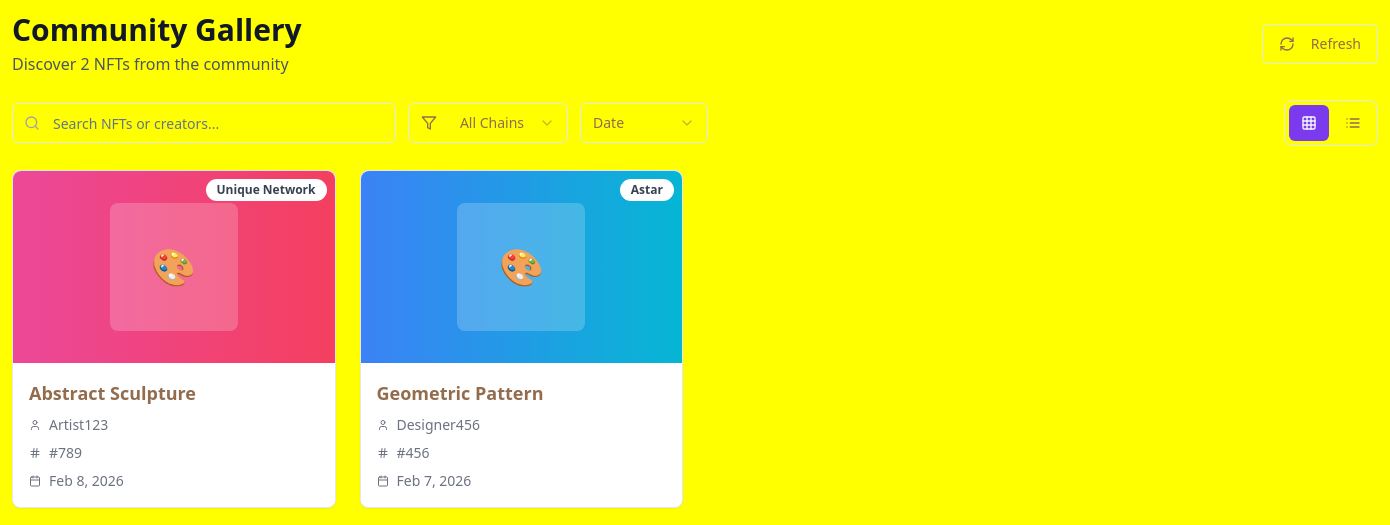
Test: CommunityGallery › shows loading state during refresh
This screenshot has width=1390, height=525.
Check: the heading "Abstract Sculpture" is shown, box [29,381,196,405]
Click the button with aria-label "Refresh community gallery": (1320, 44) [1262,24,1378,64]
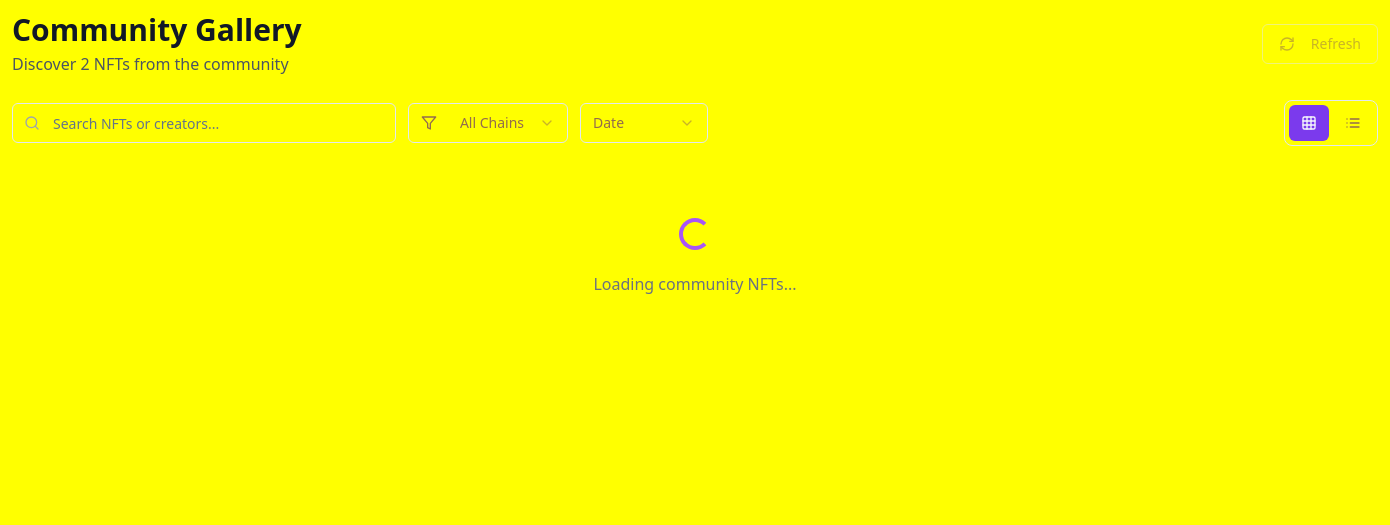
Check: the message "Loading community NFTs..." is shown, box [593,218,796,295]
Check: the text "Loading community NFTs..." is shown, box [593,273,796,295]
